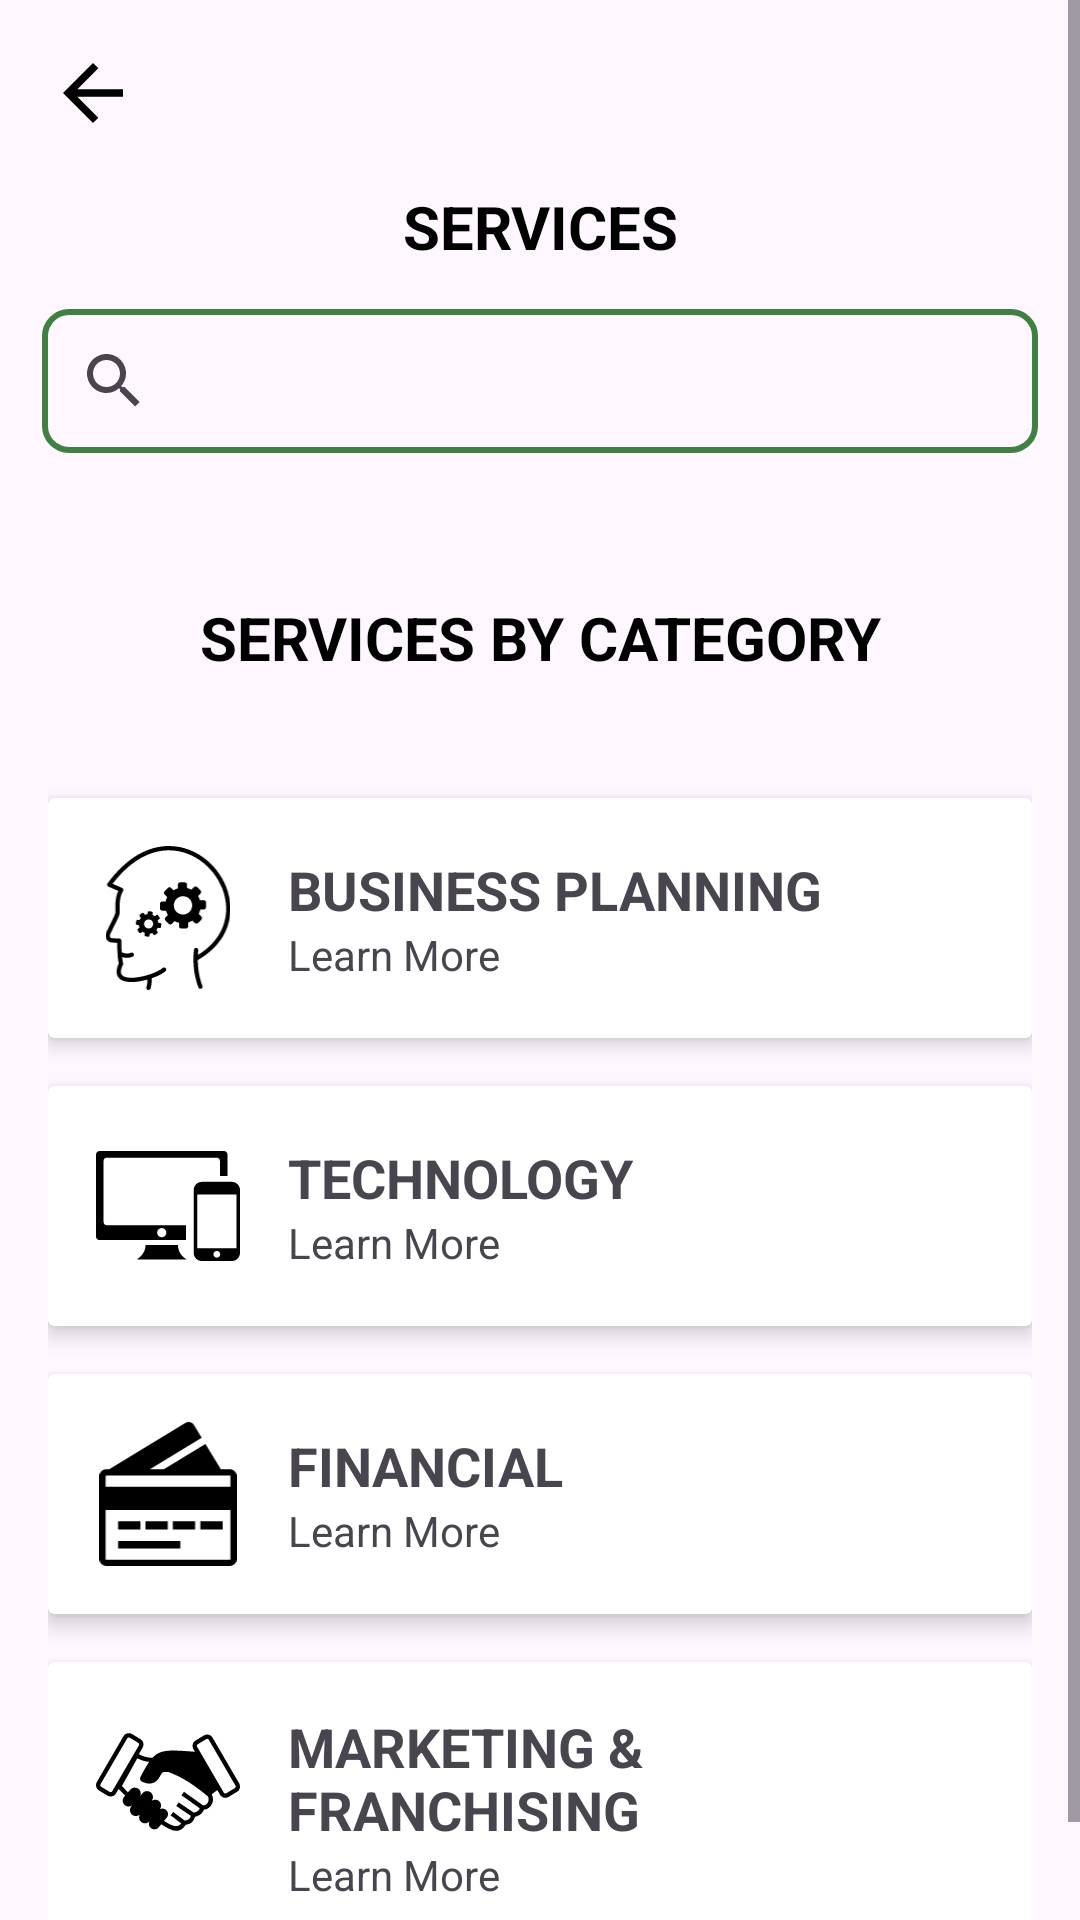

Icons on this 1080px×1920px Android screen, each with the point to tap as (x,y):
Back: (93,93)
Credit Card Icon: (168,1494)
Desktop Mobile Icon: (168,1206)
Handshake Icon: (168,1782)
Solution Thinking Icon: (168,918)
